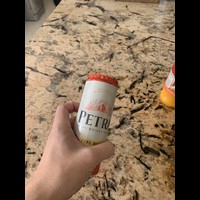petra: (69, 69, 120, 178)
